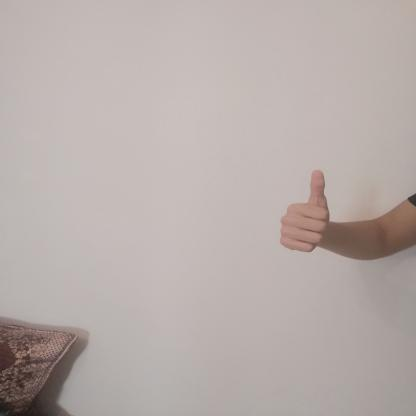ALIF: (266, 162, 343, 258)
